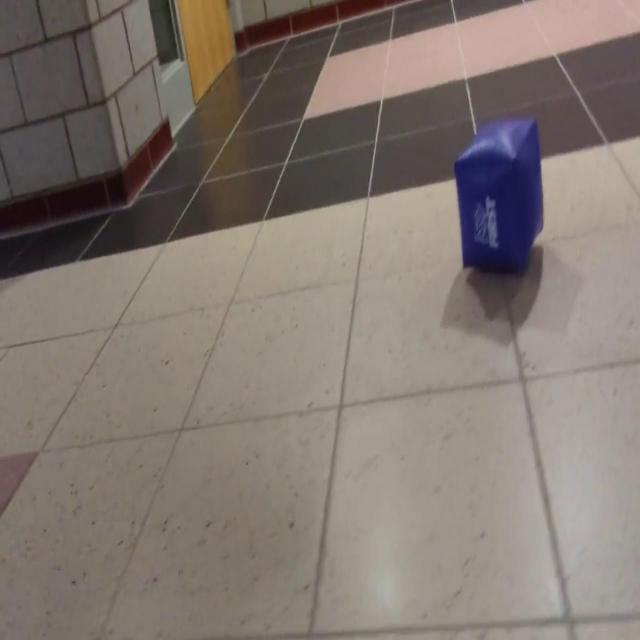frc_cube: (454, 119, 544, 278)
